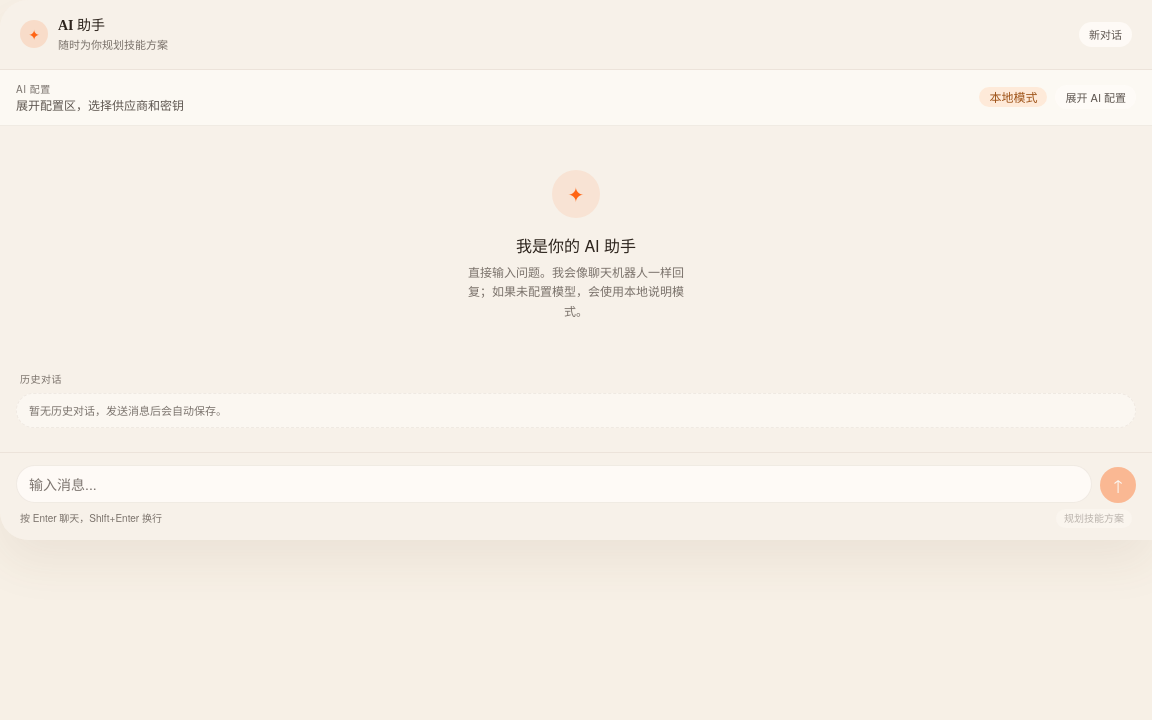
it: AssistantPanel › creates a planning task when the user chooses the planning action
The width and height of the screenshot is (1152, 720).
Type "安装一组技能" into the text box with placeholder "输入消息..." at (554, 484), box [16,464,1092,502]
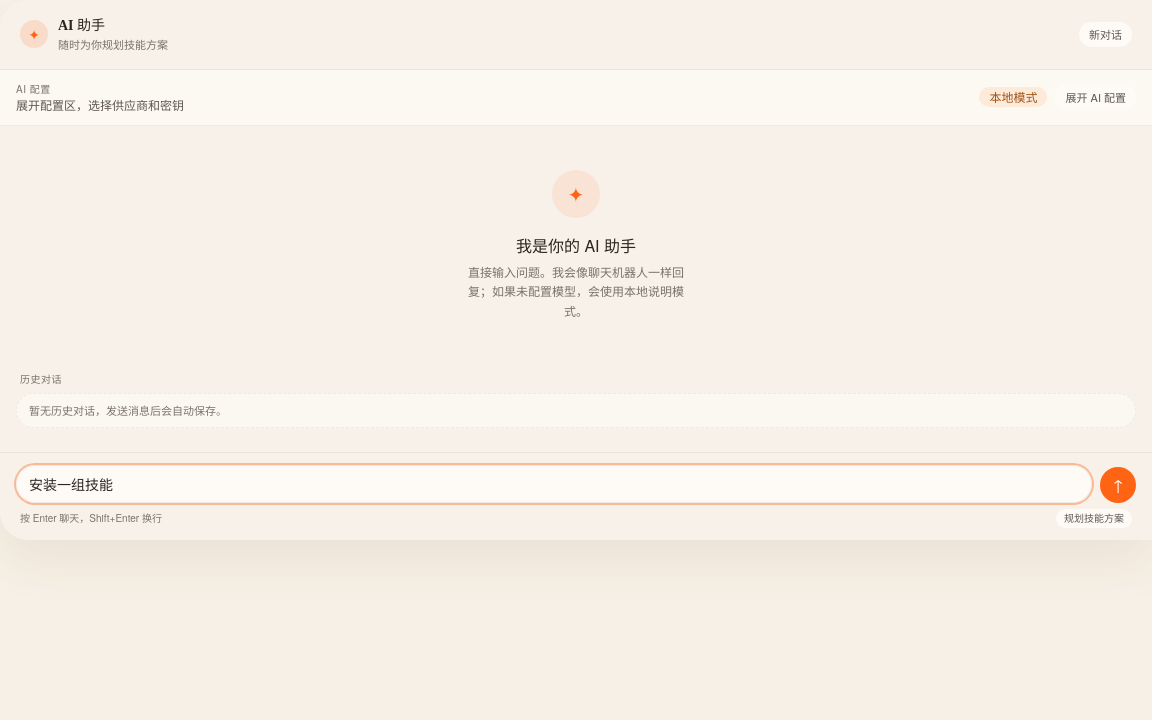
Click the button "规划技能方案" at (1094, 518), box [1056,508,1132,528]
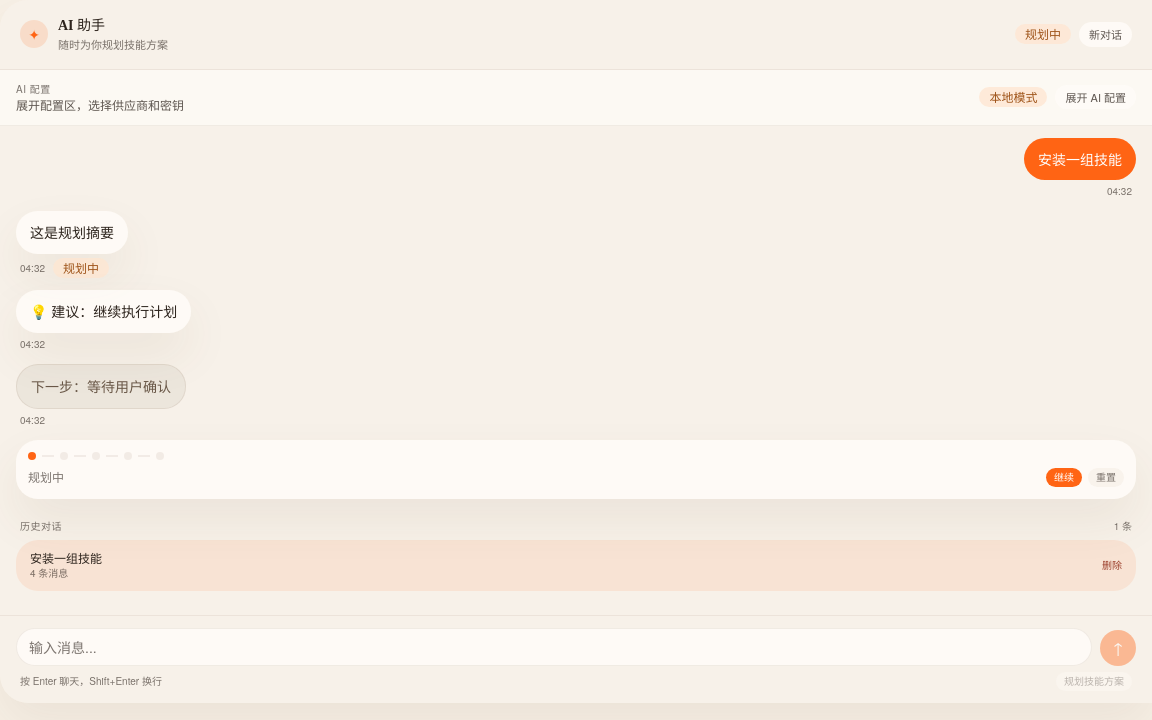
expect the text "这是规划摘要" is shown: met, box [16,211,128,254]
